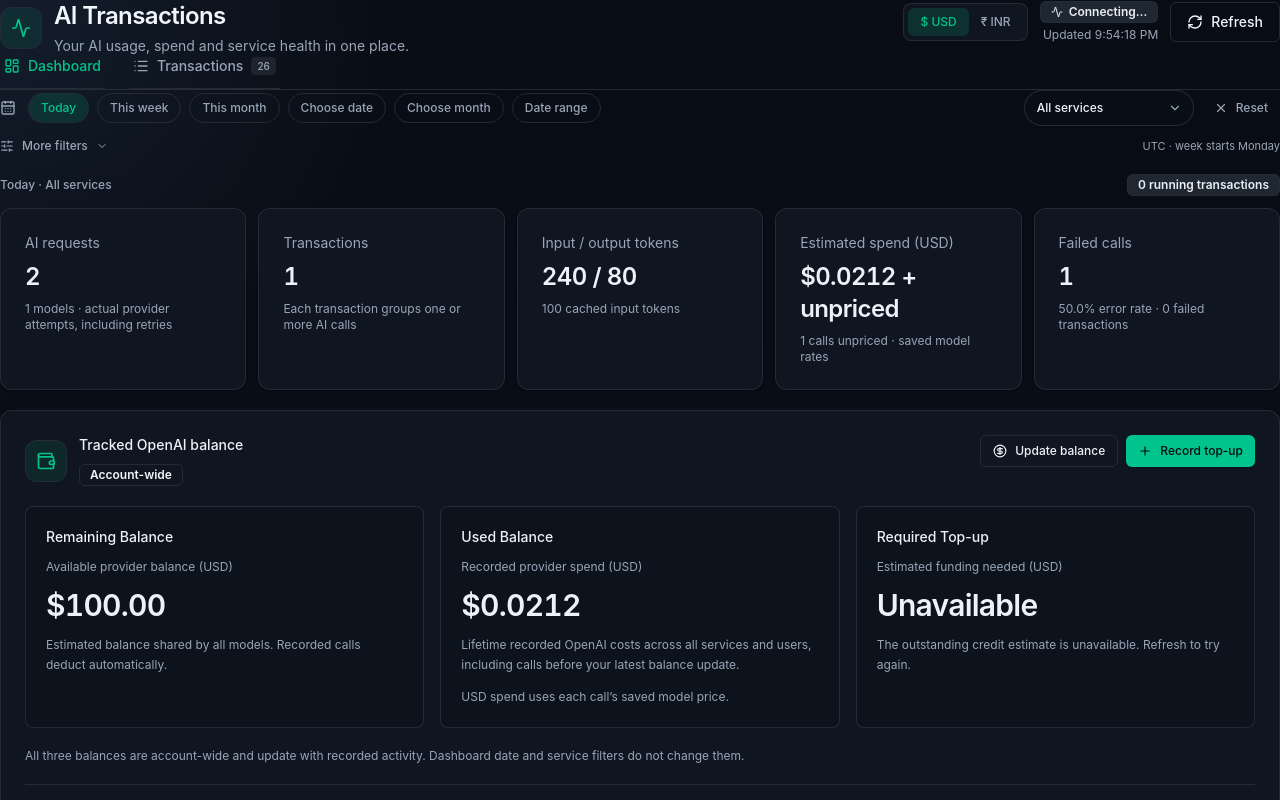
Test case: AI monitoring views › opens Dashboard with filtered cards; the AI service selector updates cards and preserves account balance
The image size is (1280, 800).
Expected: the text "$100.00" is shown, [46, 587, 165, 623]
Select "Content Pilot" in the dropdown named "AI service". click: (1109, 108)
box: [1024, 90, 1194, 126]
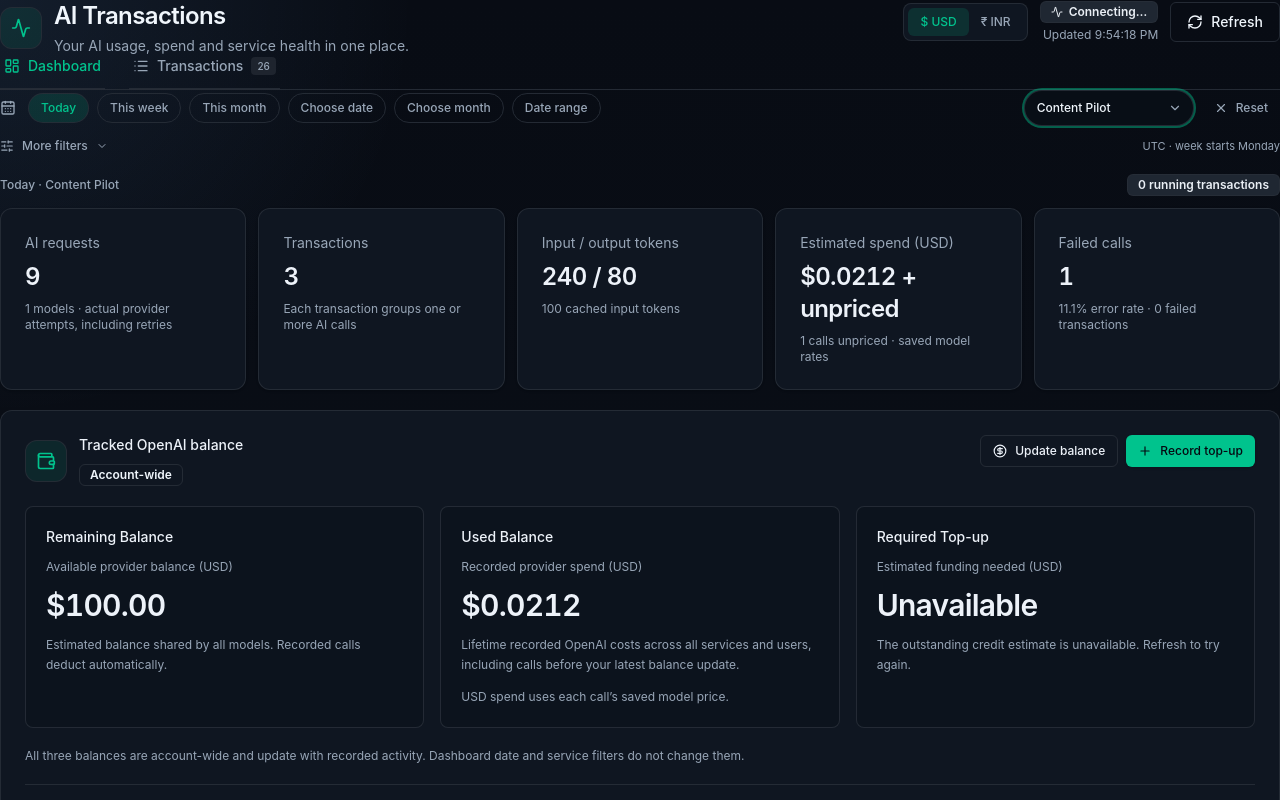
Expected: the text "$100.00" is shown, [46, 587, 165, 623]
Now the text "3" is shown, box [283, 262, 298, 291]
Now the text "9" is shown, box [25, 262, 40, 291]
Press ArrowRight in the tab "Dashboard", box [0, 56, 105, 90]
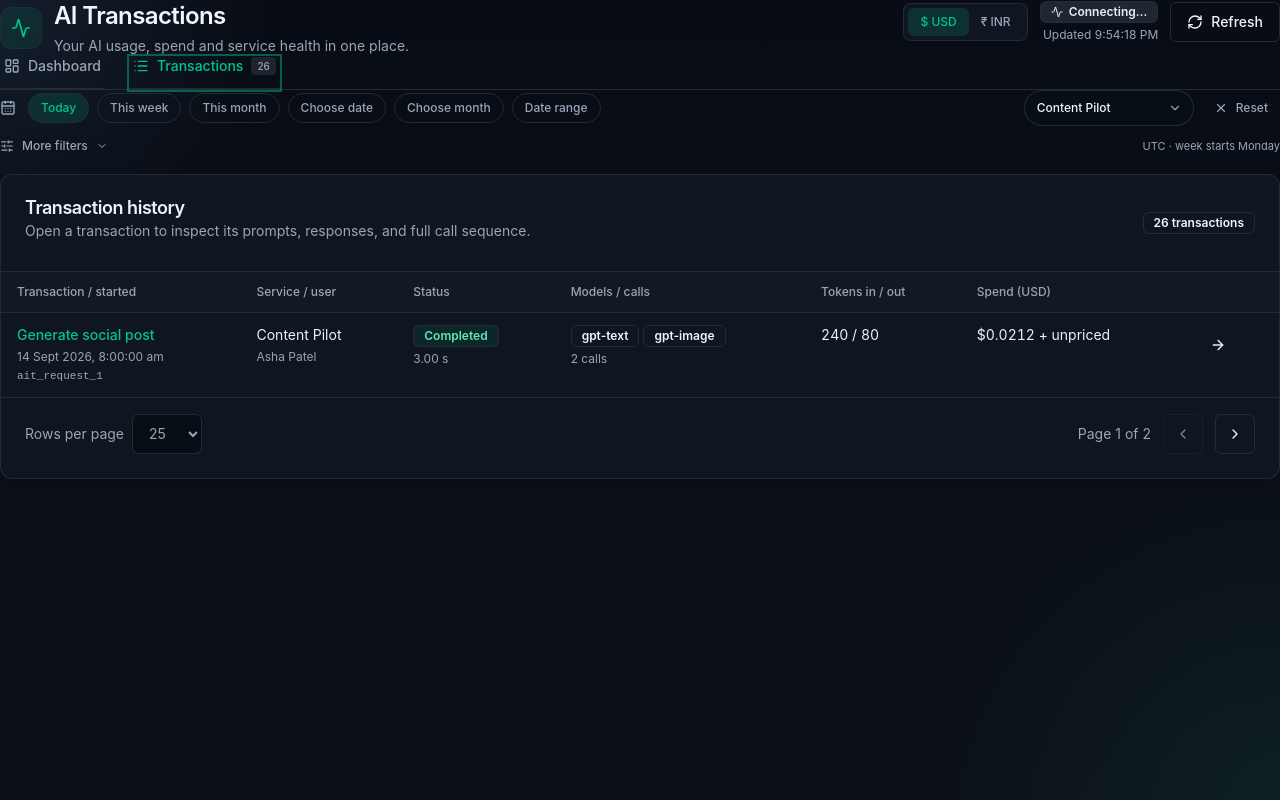
Now the table named "AI transactions" is shown, box [1, 271, 1279, 397]
